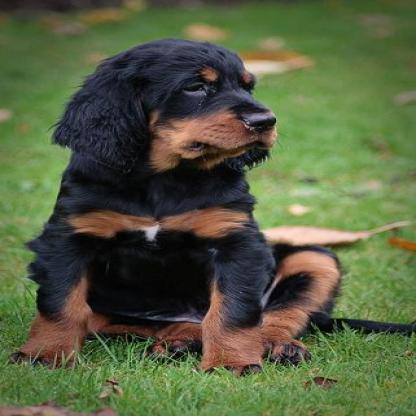Gordon_setter: (8, 37, 412, 371)
